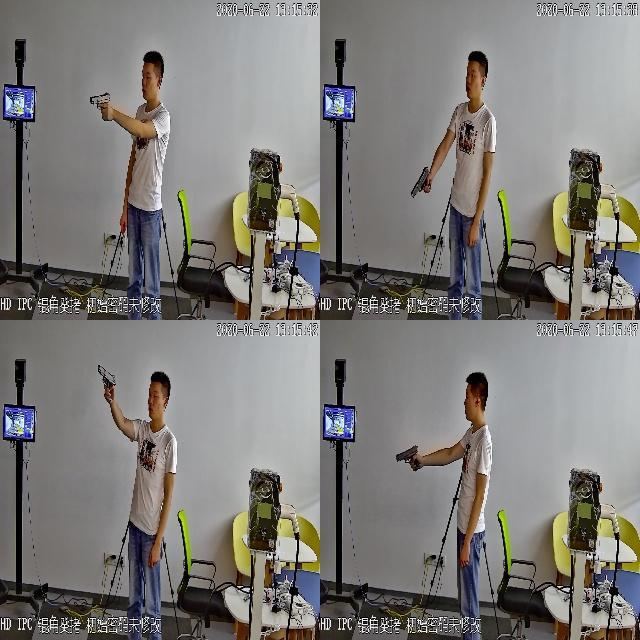gun-knife-thesis - v11 Yolov5 augmented: (391, 438, 421, 467), (95, 363, 116, 404), (409, 162, 431, 197), (87, 88, 111, 120)
